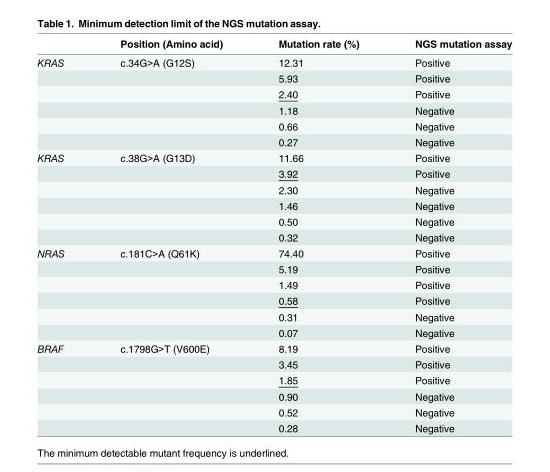table: (36, 37, 511, 433)
table column: (91, 37, 249, 433), (249, 37, 386, 433), (386, 37, 511, 433), (36, 37, 91, 433)
table column header: (36, 37, 511, 52)
table row: (36, 52, 511, 70), (36, 101, 511, 118), (36, 387, 511, 404), (36, 85, 511, 101), (36, 133, 511, 149), (36, 149, 511, 165), (36, 165, 511, 181), (36, 181, 511, 197), (36, 197, 511, 213), (36, 213, 511, 229), (36, 244, 511, 260), (36, 260, 511, 276), (36, 276, 511, 292), (36, 292, 511, 308), (36, 308, 511, 324), (36, 324, 511, 340), (36, 340, 511, 356), (36, 371, 511, 387), (36, 37, 511, 52), (36, 70, 511, 85), (36, 118, 511, 133), (36, 229, 511, 244), (36, 356, 511, 371), (36, 404, 511, 419), (36, 419, 511, 433)
table spanning cell: (36, 52, 91, 149), (36, 244, 91, 340), (36, 149, 91, 244), (36, 340, 91, 433)
